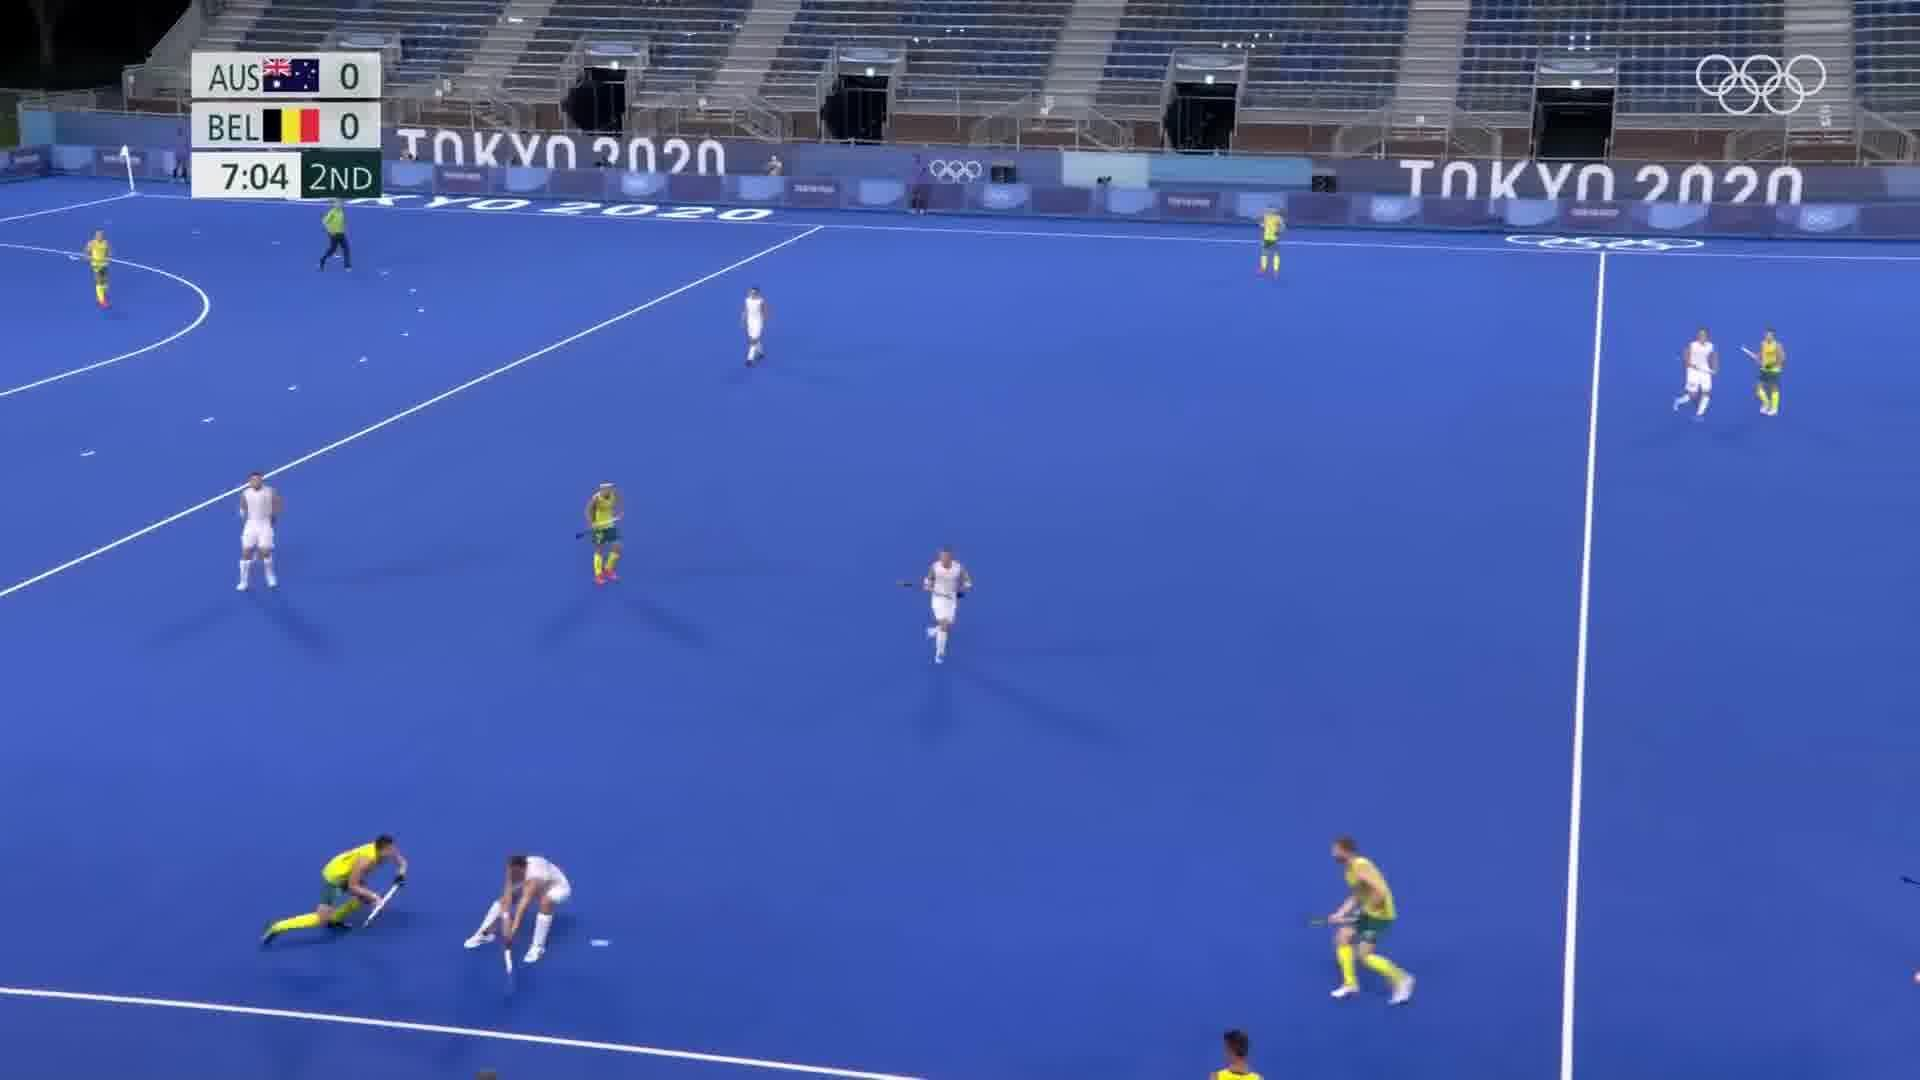ball: (585, 932, 615, 953)
